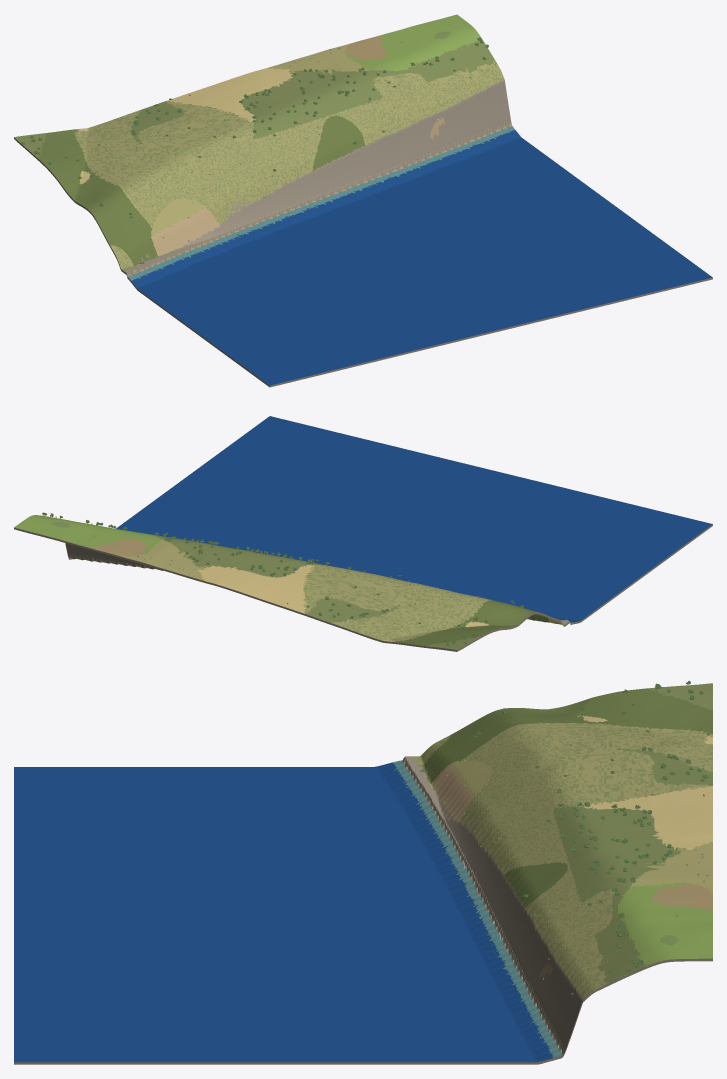
File: parca_+10_-8-yakin.glb
3 renders of one model, top to bottom at view 1: azimuth 30°, elevation 25°; view 2: azimuth 150°, elevation 25°; view 3: azimuth 270°, elevation 25°, orthographic. The views are drawn at different scales.
Parts seen in each view (by area): view 1: parca_+10_-8_arazi, parca_+10_-8_bitkiler; view 2: parca_+10_-8_arazi, parca_+10_-8_bitkiler; view 3: parca_+10_-8_arazi, parca_+10_-8_bitkiler.
Part boxes in pixels (left/top/right/bottom): parca_+10_-8_arazi: left=14, top=14, right=712, bottom=387; parca_+10_-8_bitkiler: left=21, top=37, right=496, bottom=241; parca_+10_-8_arazi: left=14, top=416, right=712, bottom=651; parca_+10_-8_bitkiler: left=42, top=512, right=530, bottom=645; parca_+10_-8_arazi: left=14, top=683, right=712, bottom=1064; parca_+10_-8_bitkiler: left=442, top=681, right=708, bottom=995.
Size of the model in its own units: 1006 by 168 by 1000.
